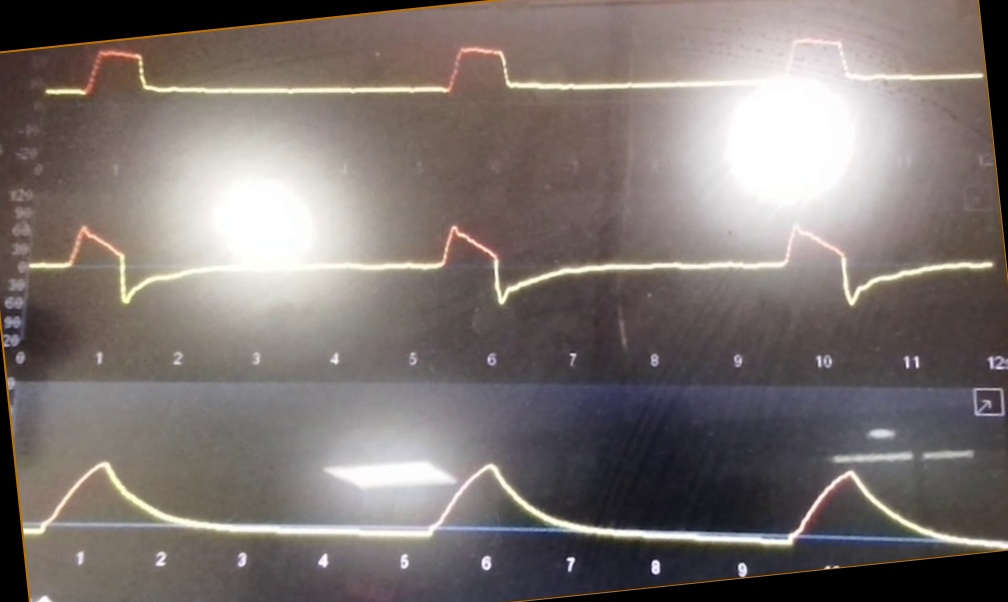Normal Flow: (33, 194, 990, 327)
Normal Volume: (26, 427, 1008, 553)
